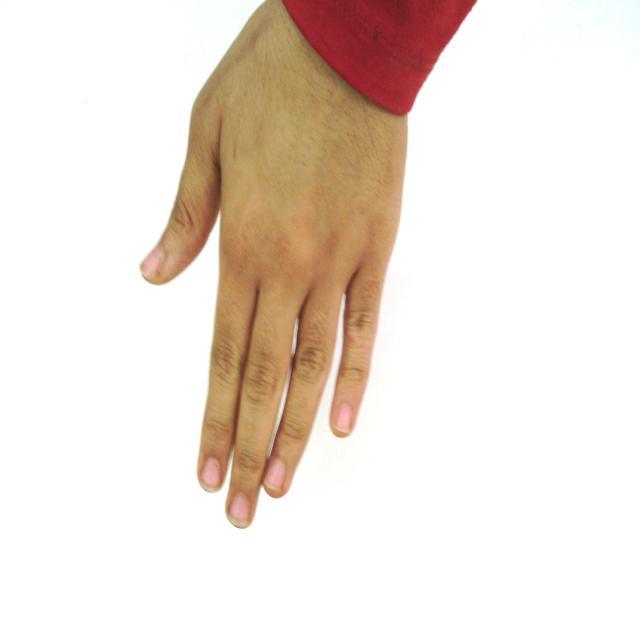Fingernail: (266, 458, 286, 490), (142, 247, 164, 275), (231, 494, 250, 526), (202, 458, 221, 490), (335, 404, 351, 433)
